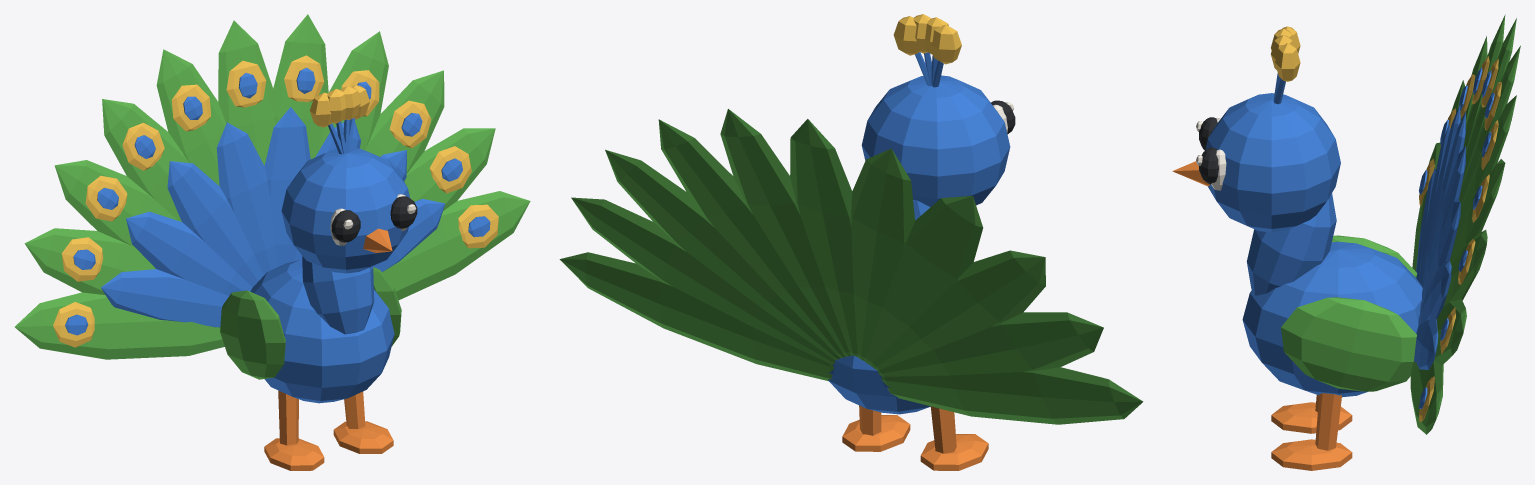
Rendered from chunky-peacock-pet.glb.
The picture shows the model from 3 angles, left to right: view 1: azimuth 30°, elevation 25°; view 2: azimuth 150°, elevation 25°; view 3: azimuth 270°, elevation 25°; orthographic projection. The views are drawn at different scales.
Visible parts, largest first — view 1: Head, Body, TailFeather_0, TailFeather_10, TailInner_2, TailInner_3, TailInner_1, TailInner_0, Wing_R, TailFeather_4, TailFeather_5, TailFeather_1 (+29 smaller); view 2: Head, TailFeather_0, TailFeather_10, TailFeather_3, TailFeather_4, TailFeather_1, TailFeather_5, TailFeather_2, TailFeather_6, TailFeather_7, TailFeather_8, TailFeather_9 (+6 smaller); view 3: Head, Body, Wing_L, Neck, Foot_L, TailFeather_10, TailFeather_7, TailFeather_6, Foot_R, TailFeather_5, Leg_L, TailFeather_8 (+17 smaller).
Boxes of the visible parts, x1,y1,x2,y2 form: Head: (281, 147, 409, 273); Body: (250, 259, 394, 403); TailFeather_0: (15, 292, 224, 359); TailFeather_10: (382, 191, 530, 300); TailInner_2: (167, 161, 263, 287); TailInner_3: (216, 122, 277, 275); TailInner_1: (126, 211, 252, 295); TailInner_0: (101, 269, 228, 327); Wing_R: (220, 290, 285, 379); TailFeather_4: (156, 49, 225, 185); TailFeather_5: (218, 20, 276, 165); TailFeather_1: (24, 228, 155, 294); Head: (861, 75, 1010, 206); TailFeather_0: (881, 367, 1143, 424); TailFeather_10: (559, 252, 834, 380); TailFeather_3: (865, 196, 983, 365); TailFeather_4: (851, 148, 914, 360); TailFeather_1: (877, 312, 1103, 376); TailFeather_5: (790, 119, 857, 356); TailFeather_2: (871, 250, 1045, 370); TailFeather_6: (720, 109, 850, 356); TailFeather_7: (658, 119, 845, 357); TailFeather_8: (605, 149, 840, 359); TailFeather_9: (571, 197, 834, 364); Head: (1205, 93, 1340, 232); Body: (1242, 241, 1422, 397); Wing_L: (1281, 297, 1416, 391); Neck: (1246, 193, 1336, 295); Foot_L: (1271, 439, 1352, 470); TailFeather_10: (1410, 360, 1443, 434); TailFeather_7: (1450, 159, 1505, 265); TailFeather_6: (1456, 95, 1516, 233); Foot_R: (1271, 402, 1352, 433); TailFeather_5: (1459, 45, 1520, 203); Leg_L: (1315, 393, 1341, 450); TailFeather_8: (1443, 230, 1487, 306).
Bounding box in the file's own units: 5.1 × 3.56 × 2.72.
